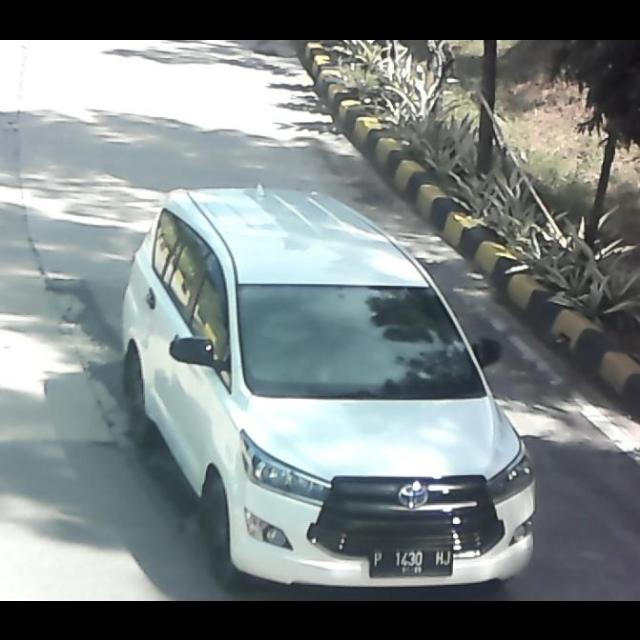plate: (367, 545, 457, 579)
